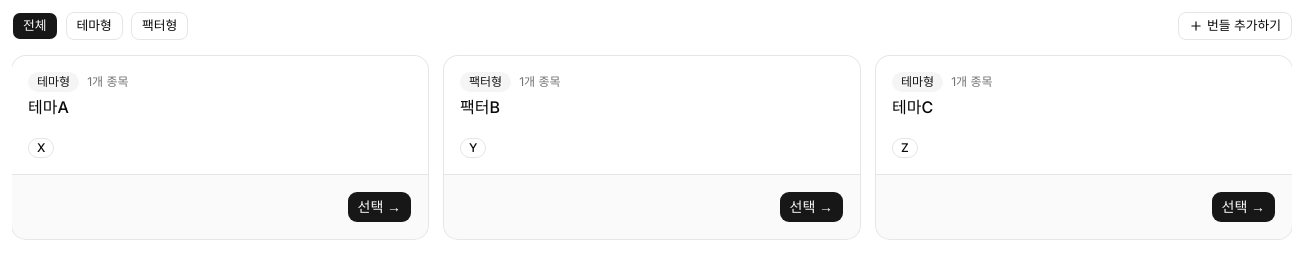
Test: BundleGallery — 기본 동작 › 카테고리 필터 클릭 시 해당 카테고리만 표시한다
Click the button "테마형". click: (94, 26)
box: [66,12,123,40]
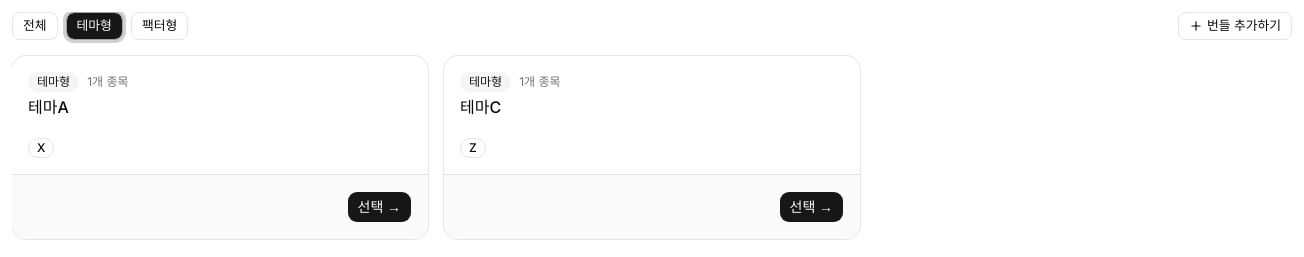
Expected: the text "테마A" is shown, [28,97,69,117]
Result: the text "팩터B" is gone
